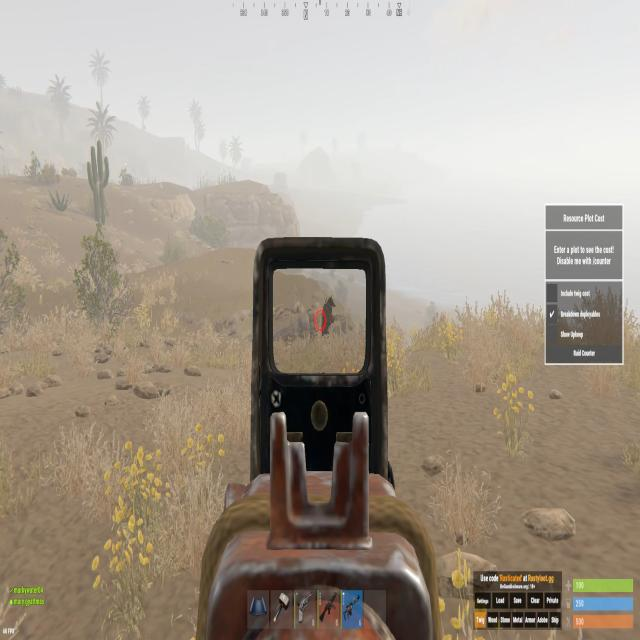Player: (321, 294, 336, 334)
